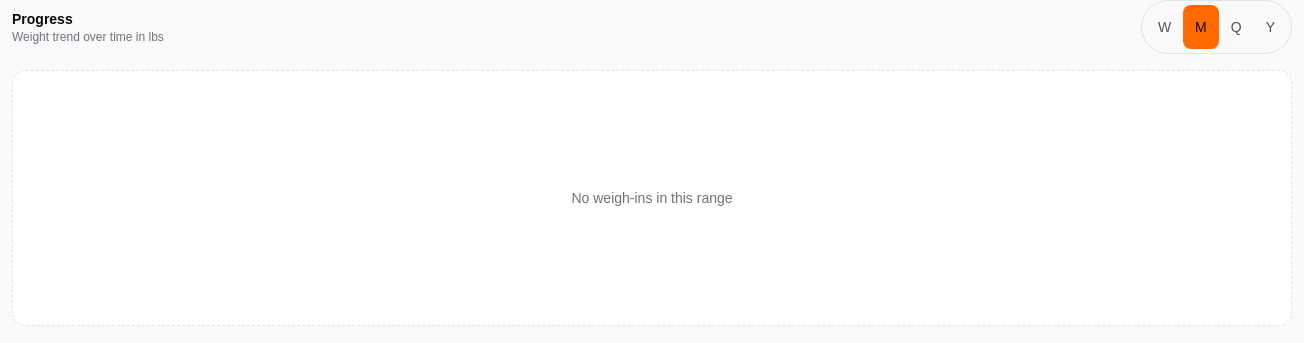
WeightChart ranges › shows the empty-range state instead of falling back to all history
The width and height of the screenshot is (1304, 343).
Expected: the text "No weigh-ins in this range" is shown, [572,188,733,208]
Click the button "Y" at (1270, 27), box [1254,5,1287,49]
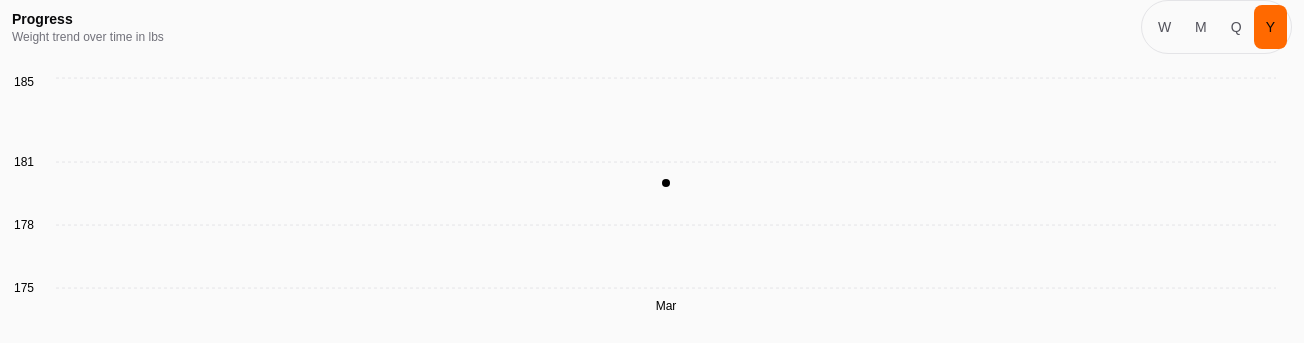
Result: the text "No weigh-ins in this range" is gone
